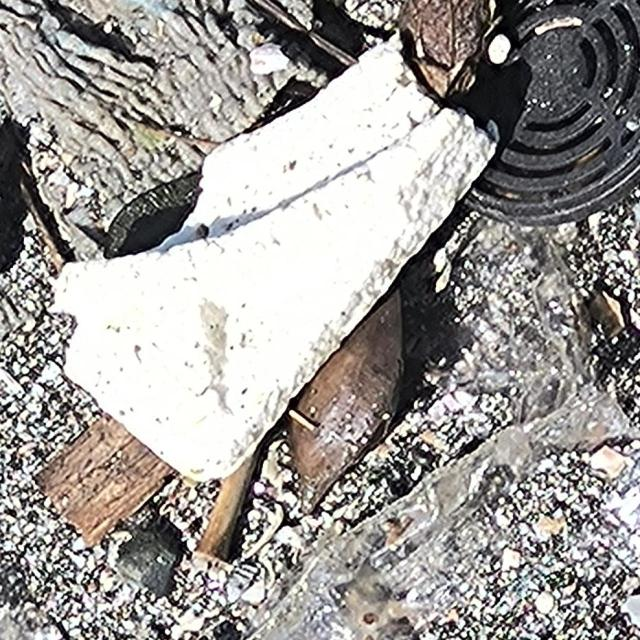styrofoam_waste: (55, 35, 500, 481)
